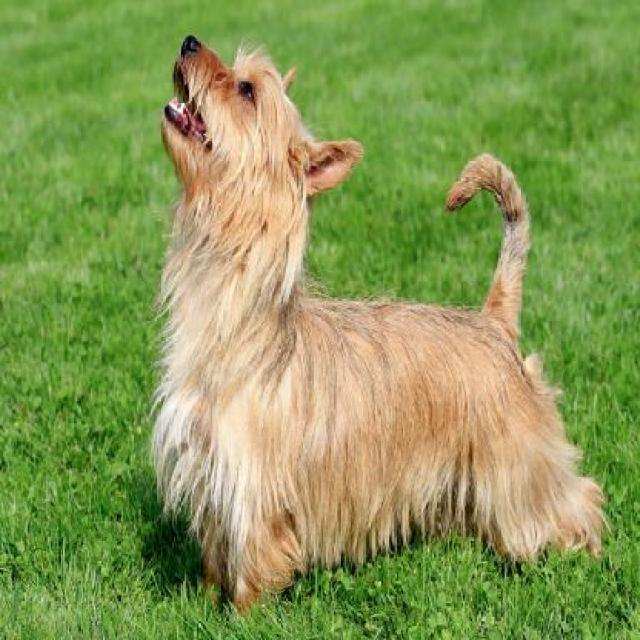animals: (118, 27, 561, 640)
